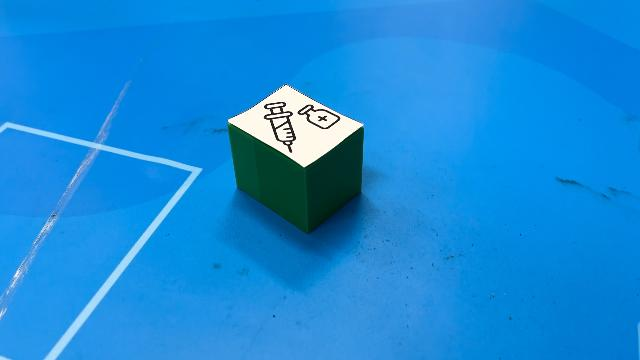syringe: (227, 82, 365, 234)
